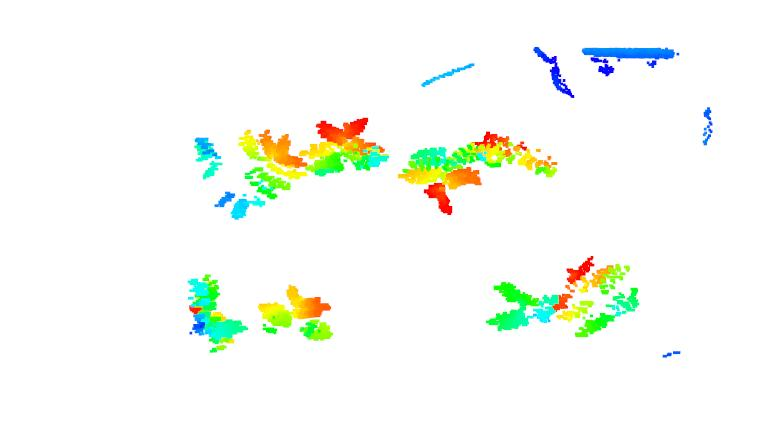chickpea: (192, 128, 307, 221), (553, 255, 644, 339), (396, 143, 484, 214), (299, 116, 388, 177), (185, 273, 247, 354), (481, 278, 562, 337), (257, 285, 334, 344), (473, 129, 560, 179)
